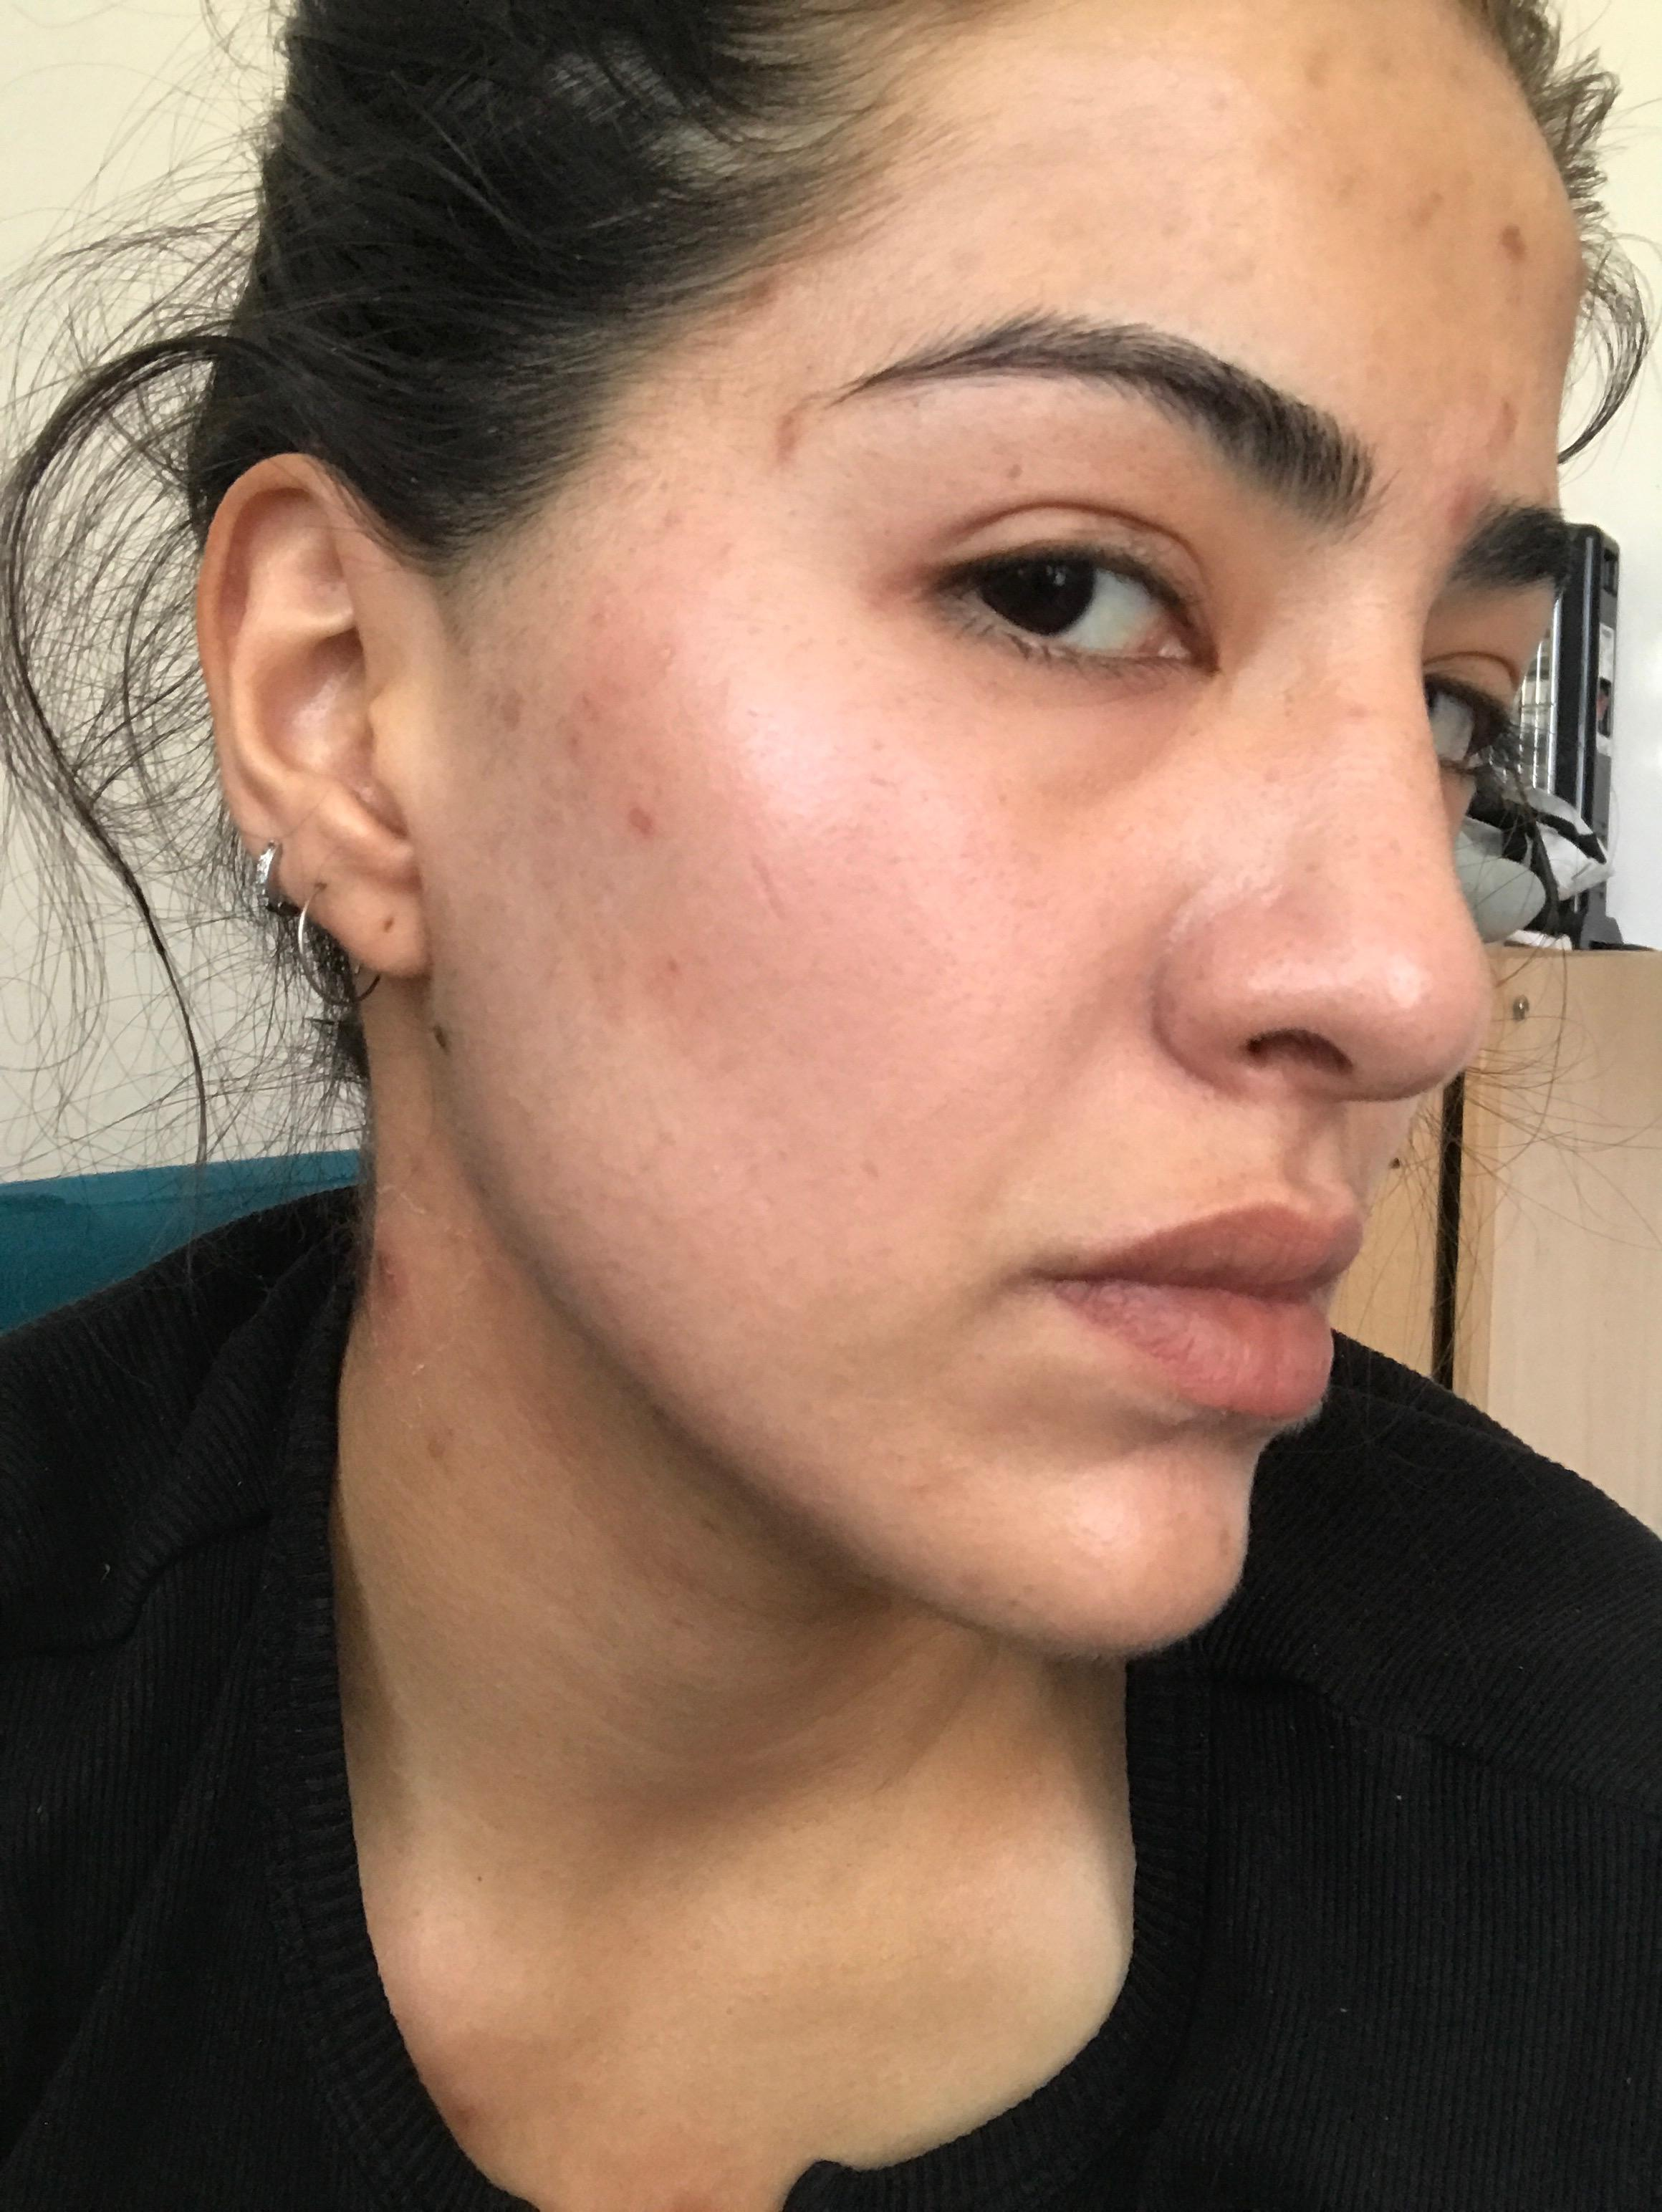Acne: (765, 396, 815, 485), (1439, 475, 1498, 536), (1473, 393, 1522, 461), (723, 265, 789, 314), (1496, 208, 1528, 286), (1288, 33, 1332, 89), (622, 789, 672, 831), (492, 677, 534, 721), (653, 623, 684, 679), (581, 674, 606, 745), (590, 599, 622, 644), (1210, 1517, 1238, 1568), (660, 946, 690, 985), (656, 499, 681, 543), (1337, 695, 1370, 725), (1260, 759, 1285, 794)
Blackheads: (1233, 950, 1372, 1004)
